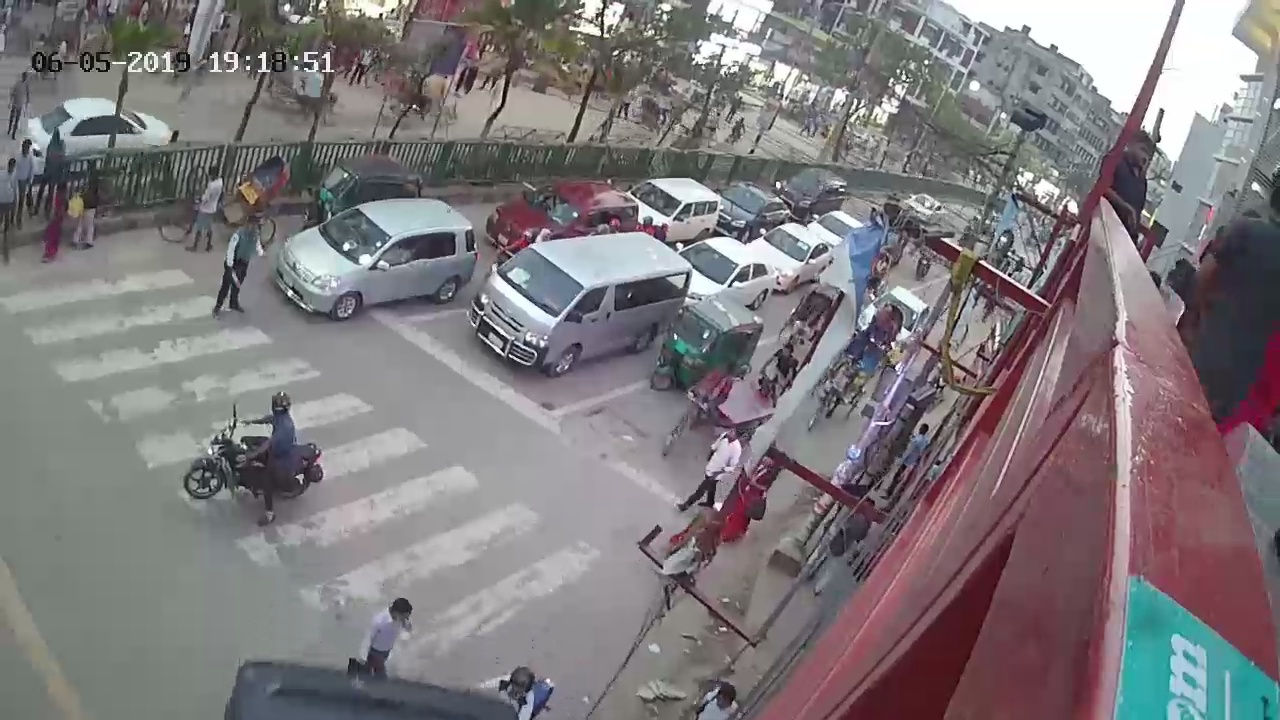fast_in: (467, 218, 701, 385), (266, 188, 484, 328), (172, 384, 341, 529), (477, 171, 644, 271), (643, 292, 769, 399), (293, 148, 440, 235), (661, 229, 785, 321), (615, 173, 725, 245), (744, 218, 836, 295), (705, 177, 797, 241), (854, 285, 934, 352), (775, 162, 849, 223), (777, 280, 844, 347), (805, 199, 872, 258), (900, 191, 950, 222), (913, 240, 937, 280)
fast_out: (26, 91, 176, 162)
slow_in: (151, 145, 299, 260), (652, 361, 784, 461), (796, 328, 893, 438), (797, 327, 889, 439)
slow_out: (720, 115, 752, 145)
